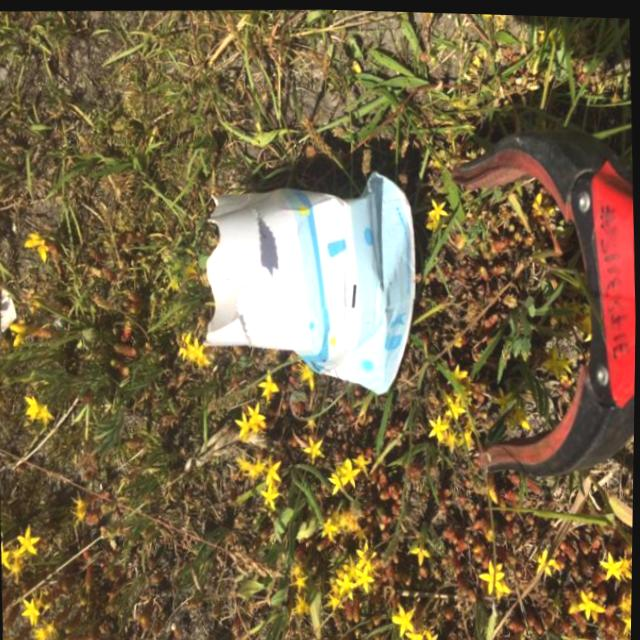Paper: (193, 158, 425, 401)
